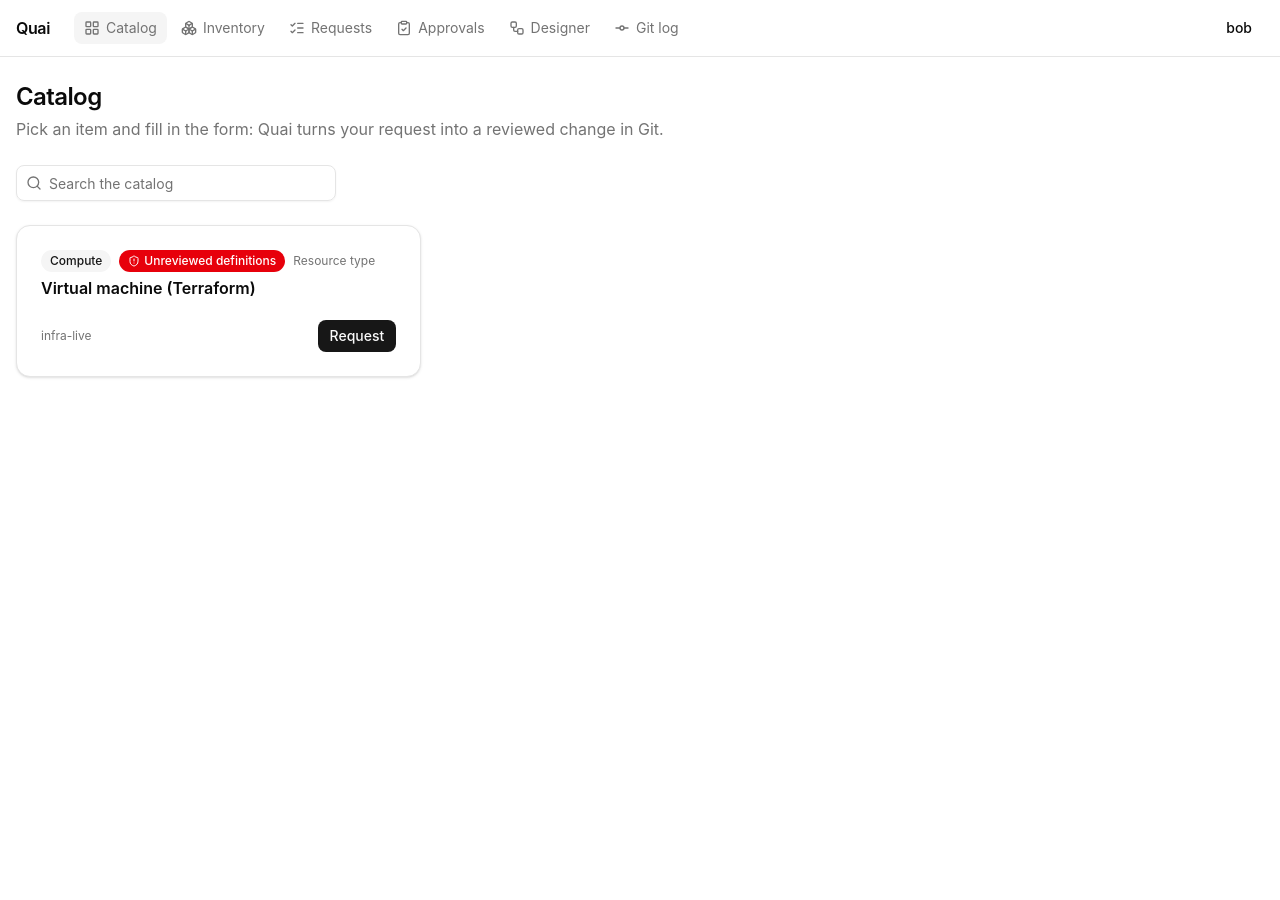
Scenario: a repository whose definitions can change without review is flagged in red
Expected: the text "Unreviewed definitions" is shown, [119,250,285,272]
Click the link "Request" at (357, 336), box [318,320,396,352]
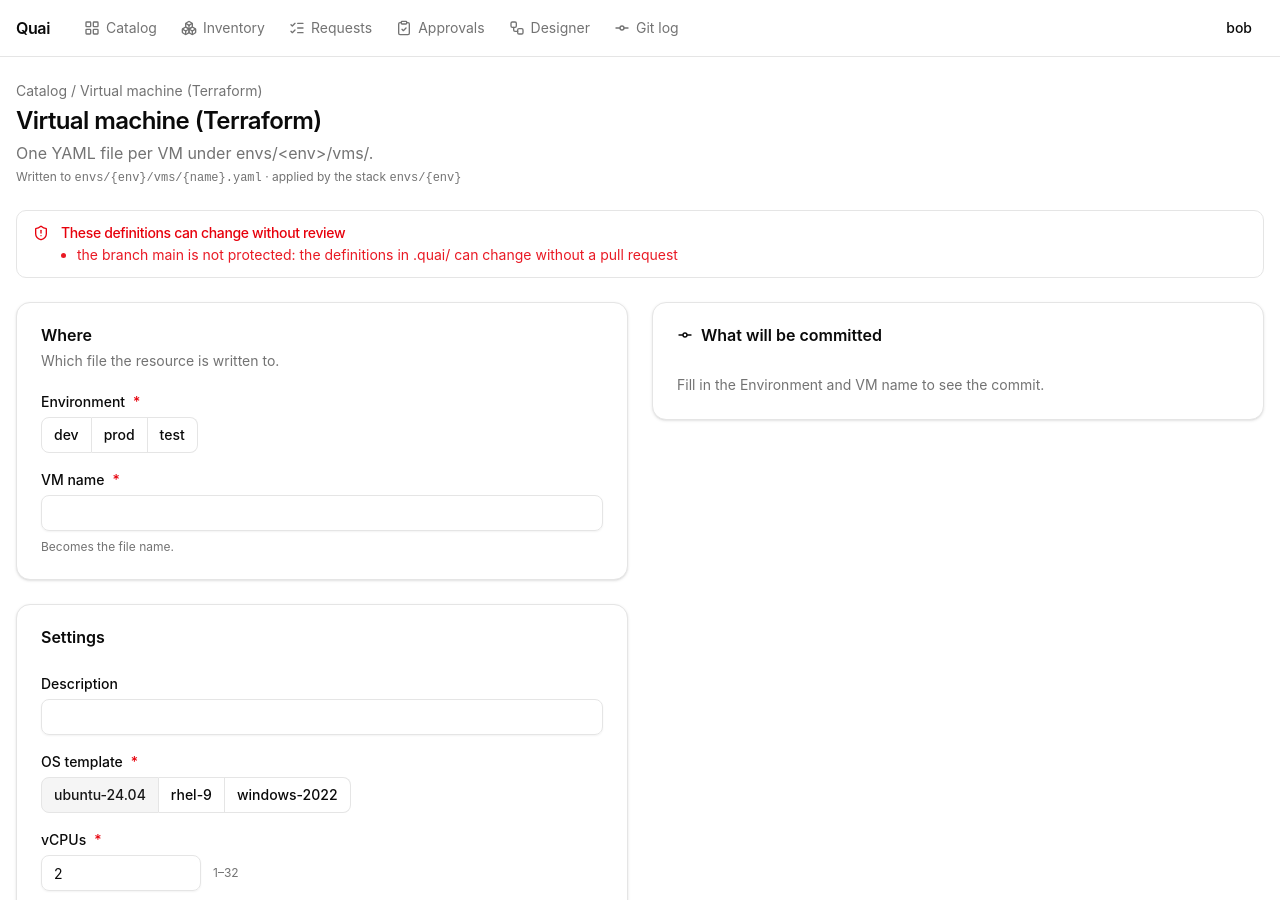
Result: the text "These definitions can change without review" is shown at [61,224,345,241]
Result: the list item "the branch main is not protected: the definitions in .quai/ can change without a pull request" is shown at [77,246,678,263]
